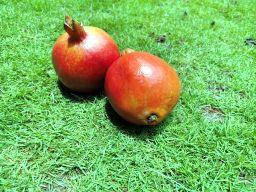pomegranate: (104, 51, 181, 125), (52, 15, 120, 97)
